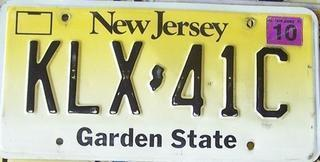placa de veiculo: (5, 2, 318, 160)
